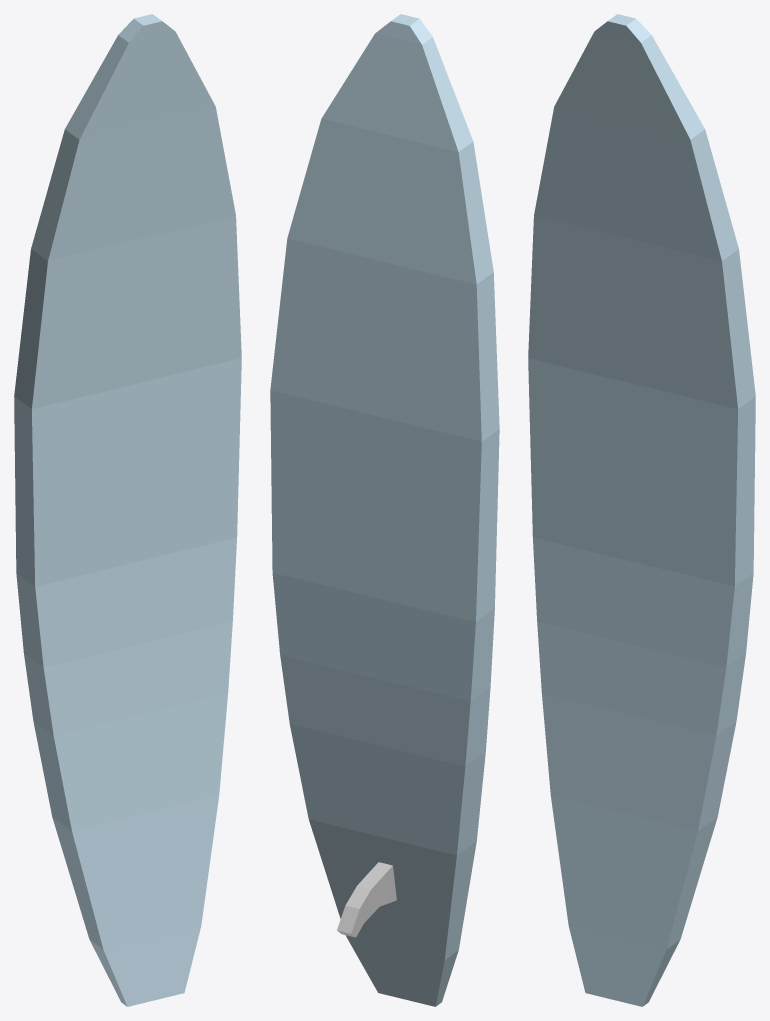
Rendered from surfboard-_a1R-AVl.gltf.
3 renders of one model, left to right at view 1: azimuth 30°, elevation 25°; view 2: azimuth 150°, elevation 25°; view 3: azimuth 330°, elevation 25°, orthographic.
Parts seen in each view (by area): view 1: Part 1; view 2: Part 1, Part 2; view 3: Part 1.
Part boxes in pixels (box(x1,y1,x2,y2)): Part 1: box(14, 14, 241, 1006); Part 1: box(270, 14, 499, 1006); Part 2: box(337, 862, 396, 937); Part 1: box(528, 14, 755, 1006).
Bounding box in the file's own units: 0.3685 × 1.63 × 0.209.
